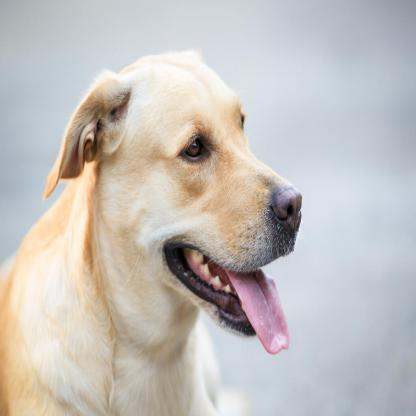Labarador Retriever: (0, 52, 304, 416)
